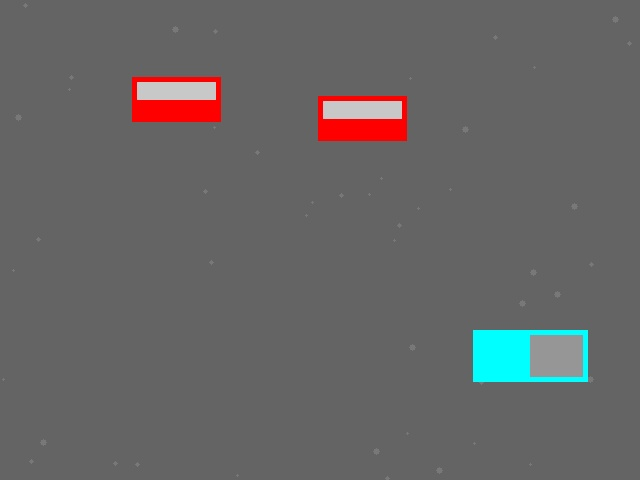car: (318, 96, 406, 140), (132, 77, 220, 121)
truck: (473, 330, 587, 381)
